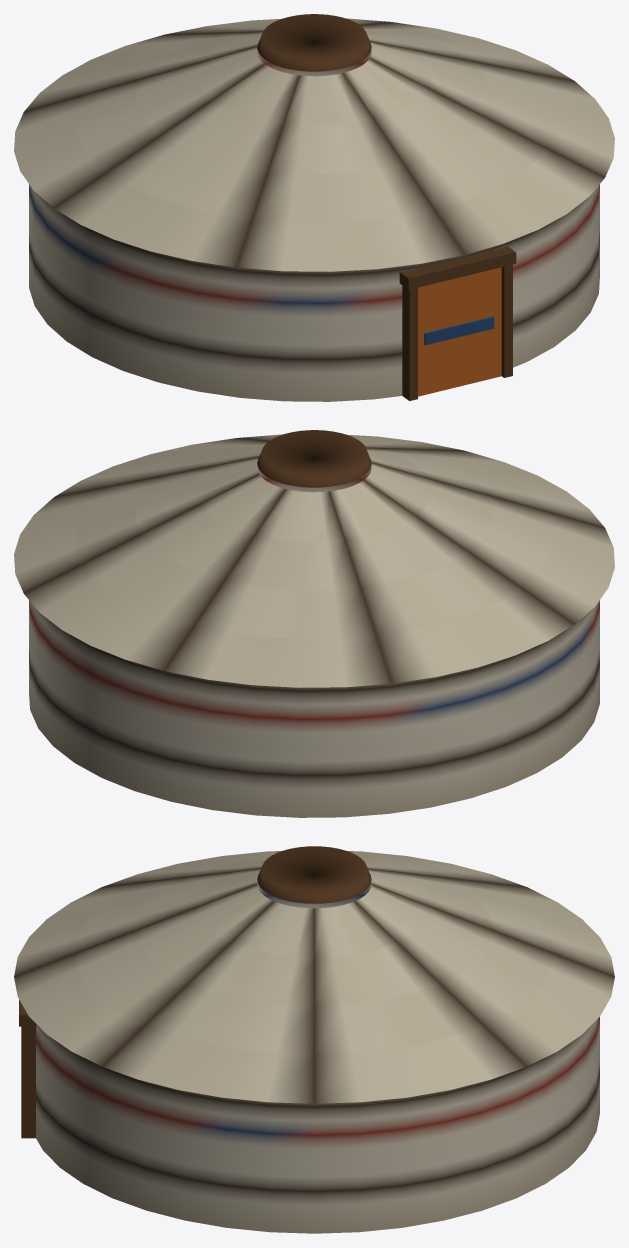
The model's file is yurt-5.glb.
3 renders of one model, top to bottom at view 1: azimuth 30°, elevation 25°; view 2: azimuth 150°, elevation 25°; view 3: azimuth 270°, elevation 25°, orthographic.
Parts seen in each view (by area): view 1: yurt-5; view 2: yurt-5; view 3: yurt-5.
Part boxes in pixels (left/top/right/bottom): yurt-5: left=14, top=14, right=614, bottom=401; yurt-5: left=14, top=430, right=614, bottom=817; yurt-5: left=14, top=846, right=614, bottom=1233.
Size of the model in its own units: 4.84 by 2.17 by 4.84.
